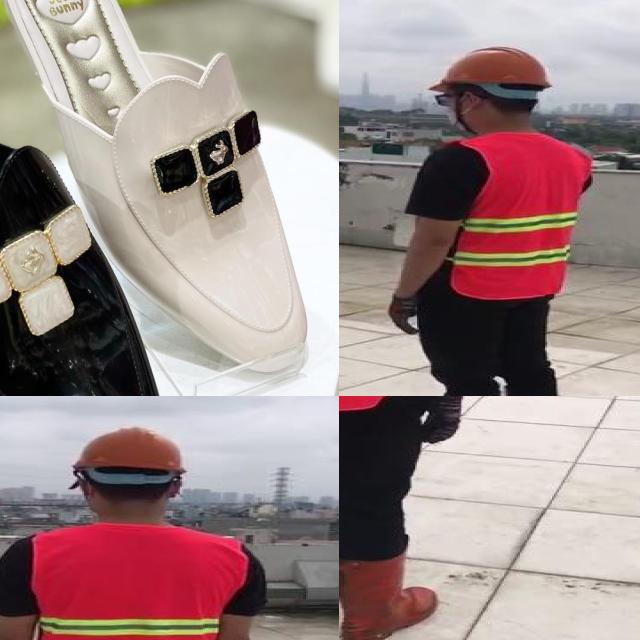Sandals: (3, 0, 339, 389), (0, 0, 191, 396)
boots: (339, 553, 438, 640)
hand_glove: (418, 396, 459, 446), (386, 296, 421, 334)
head_helmet: (424, 42, 549, 92), (66, 424, 191, 474)
person: (367, 33, 603, 396), (0, 421, 276, 640), (339, 396, 509, 640)
vest: (29, 524, 246, 640), (447, 133, 588, 298)
